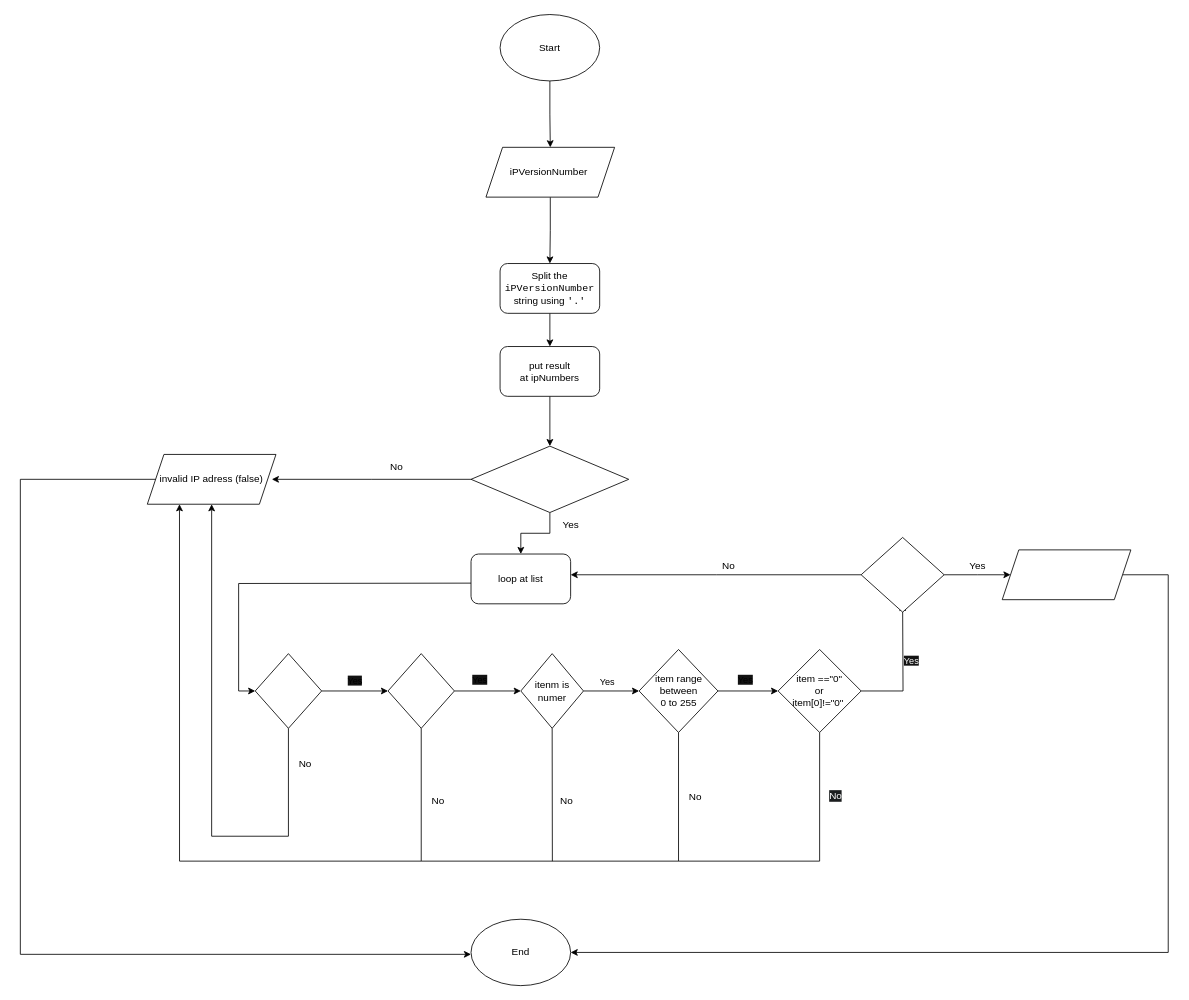
Some shapes in this 1189 by 1000 pixel diagram are drawn without their labels. The centre of each missing label's shape, as x and y in pixels:
"are this last item" goes at (x=902, y=574).
"ipNumbers.size==4" goes at (x=549, y=479).
"item not blan k" goes at (x=420, y=690).
"item not empty" goes at (x=288, y=690).
"valid IP adress (true)" goes at (x=1066, y=574).
